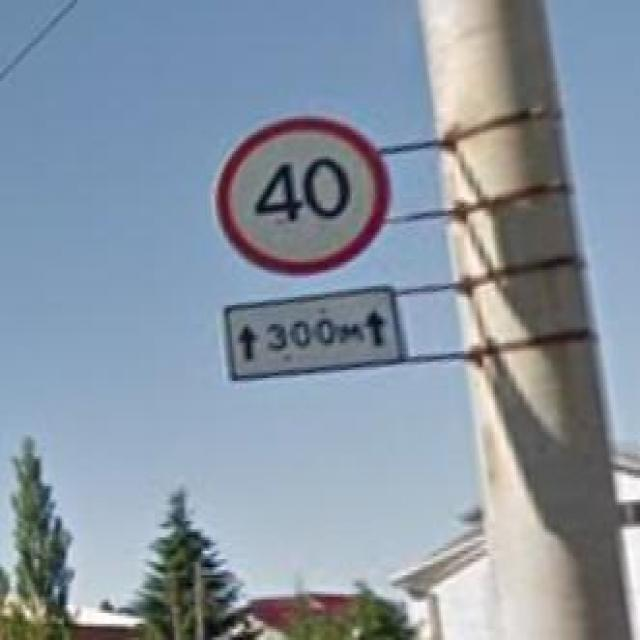speed limit 40: (212, 113, 392, 279)
